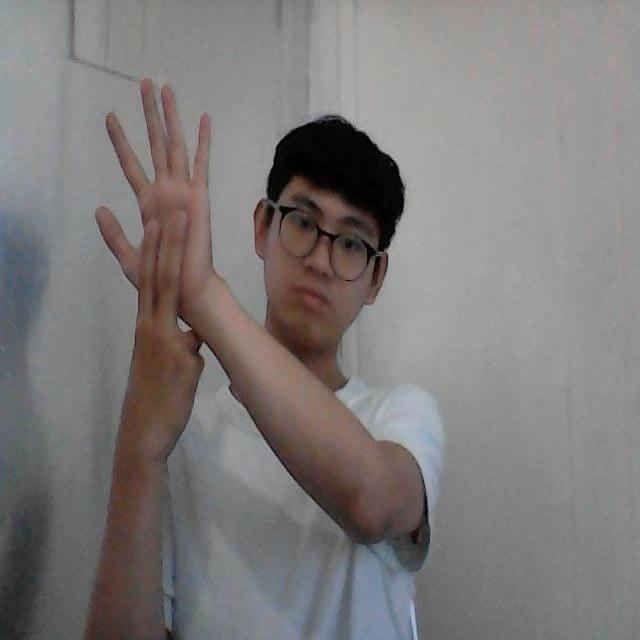N: (89, 72, 220, 359)
